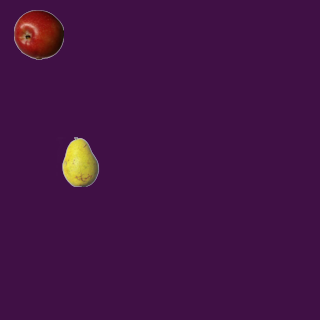Apple Braeburn: (13, 9, 63, 59)
Pear Monster: (55, 136, 105, 186)
